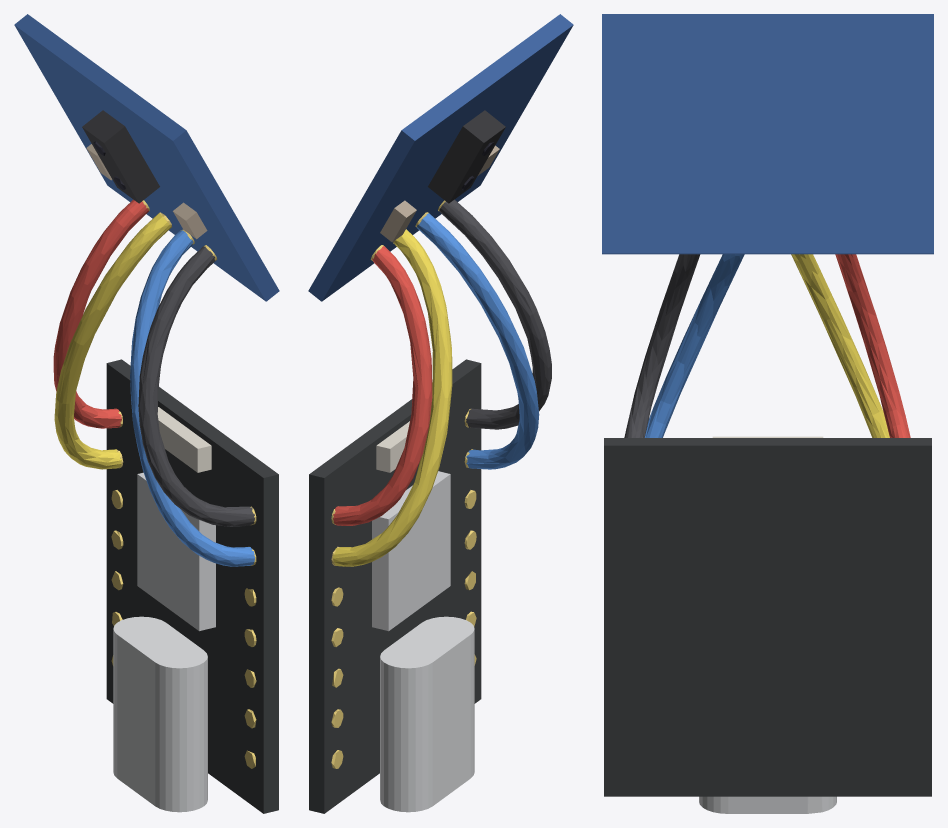
The model's file is stock-alert.v1.glb.
3 views of the same model, side by side, from view 1: azimuth 30°, elevation 25°; view 2: azimuth 150°, elevation 25°; view 3: azimuth 270°, elevation 25° (orthographic). The views are drawn at different scales.
Parts seen in each view (by area): view 1: xiao-pcb; view 2: xiao-pcb; view 3: xiao-pcb.
Part boxes in pixels (x1,y1,x2,y2): xiao-pcb: (14, 14, 279, 813); xiao-pcb: (308, 14, 573, 813); xiao-pcb: (602, 14, 933, 813).
Size of the model in its own units: 7.21 by 45.48 by 18.
1 material, 1 textured.
